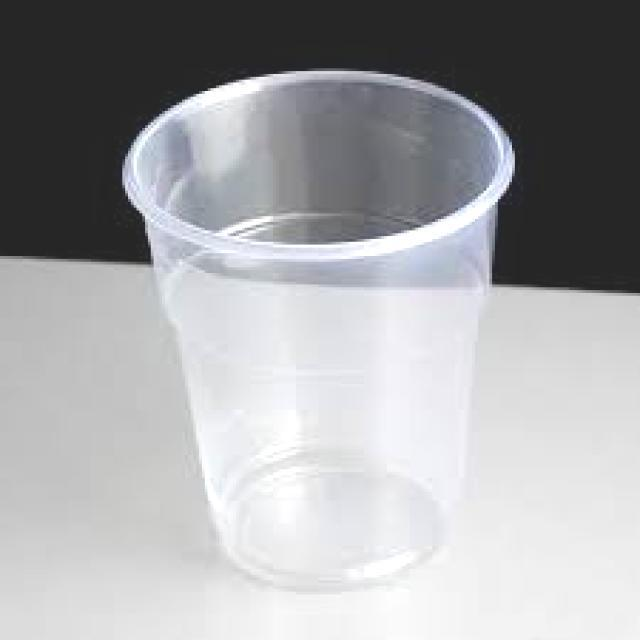Plastico descartable: (124, 71, 514, 591)
